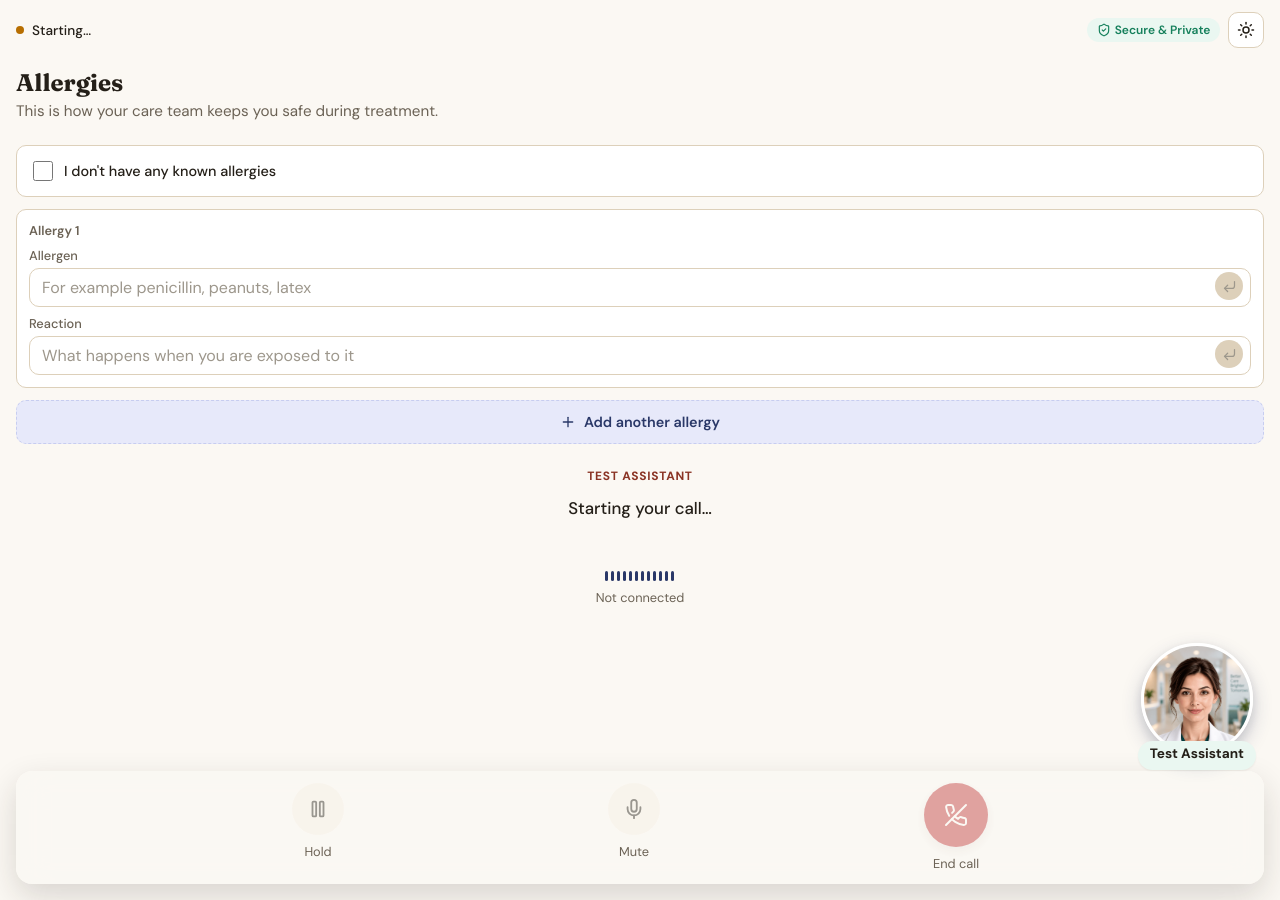
Test: Allergies › hides the entry list once "no known allergies" is checked
Click the checkbox labelled "I don't have any known allergies" at (43, 171), box [33,161,53,181]
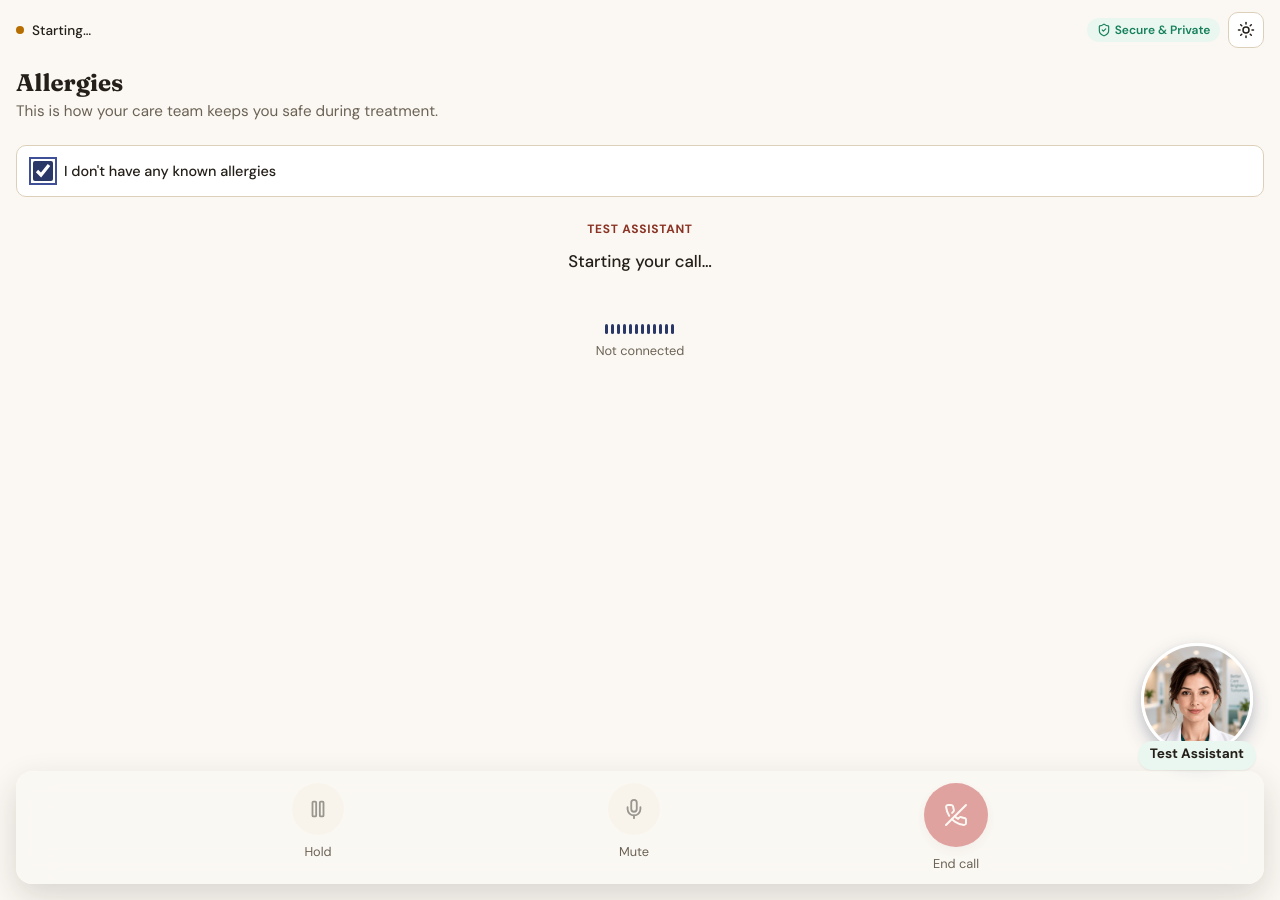
Now the label labelled "Allergen" is gone
Now the button "Add another allergy" is gone
